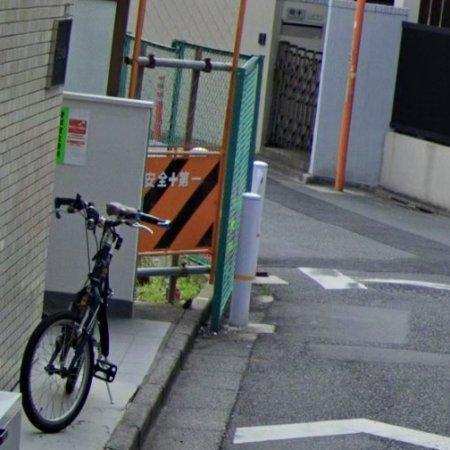bicycles: (20, 195, 167, 433)
